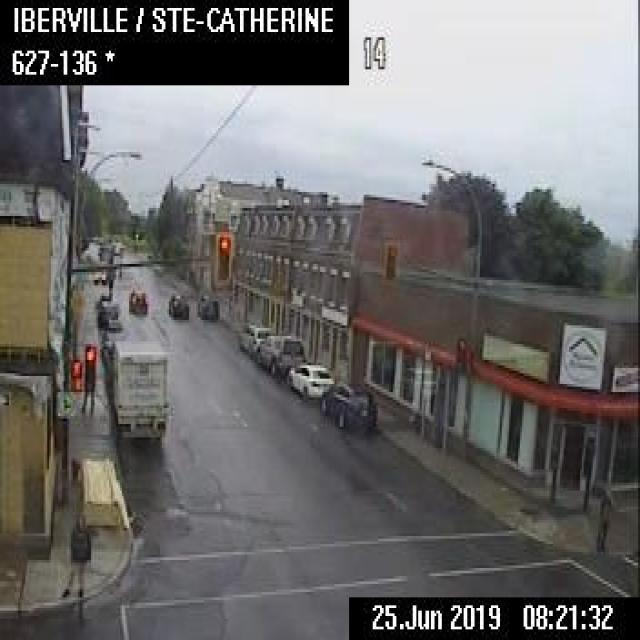pedestrian: (58, 507, 89, 597), (594, 486, 613, 550), (80, 361, 94, 416)
vehicle: (111, 339, 168, 440), (320, 382, 378, 429), (256, 332, 304, 376), (286, 362, 332, 398), (237, 322, 271, 358), (99, 330, 125, 361), (195, 294, 219, 318), (96, 299, 117, 324), (167, 293, 188, 317), (126, 288, 146, 312), (105, 316, 121, 331)
